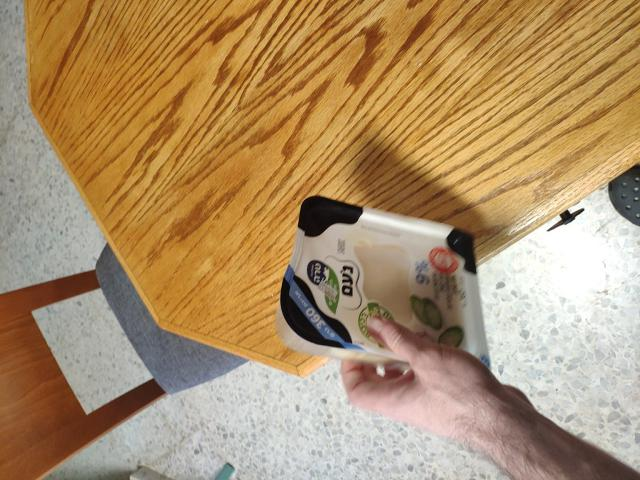cheese: (269, 208, 523, 376)
